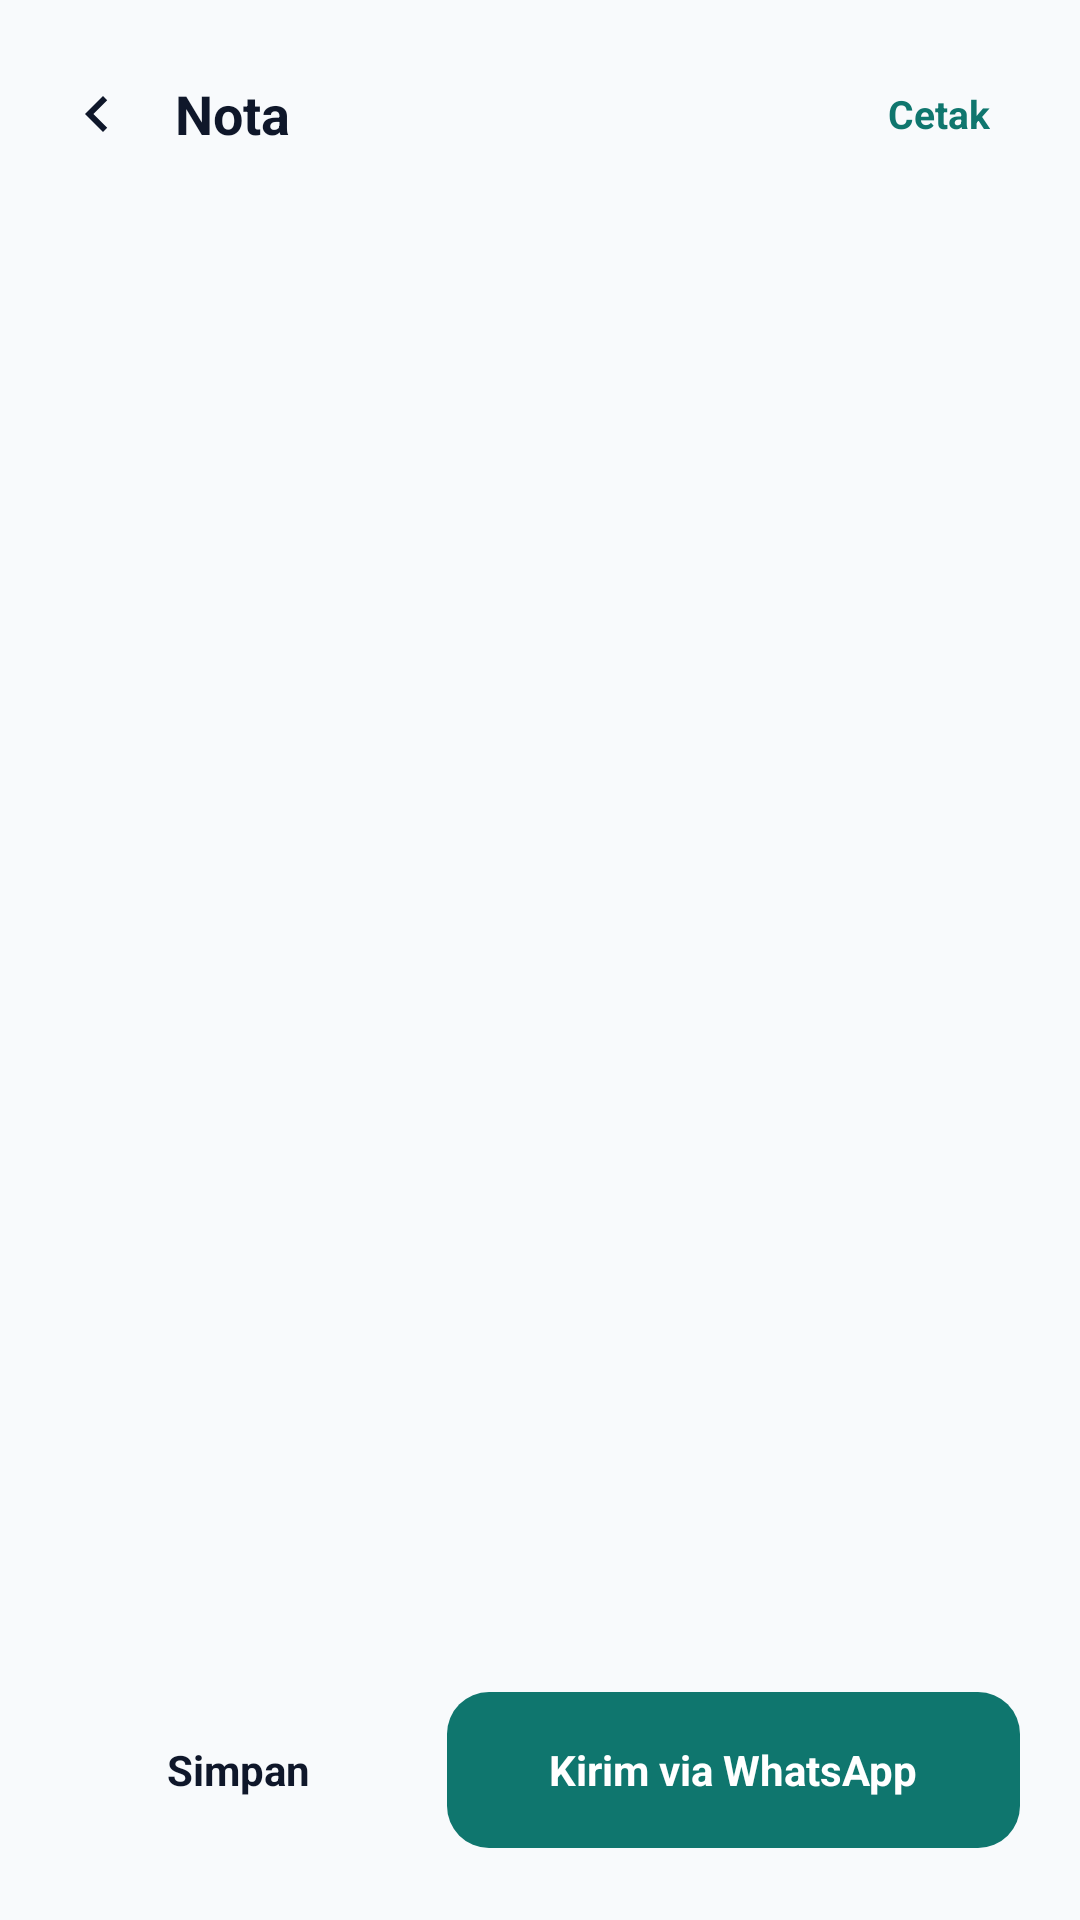

Point at icon controls on the screen. Image size 1080×1920, points as point (x, y).
Kembali: point (96, 114)
